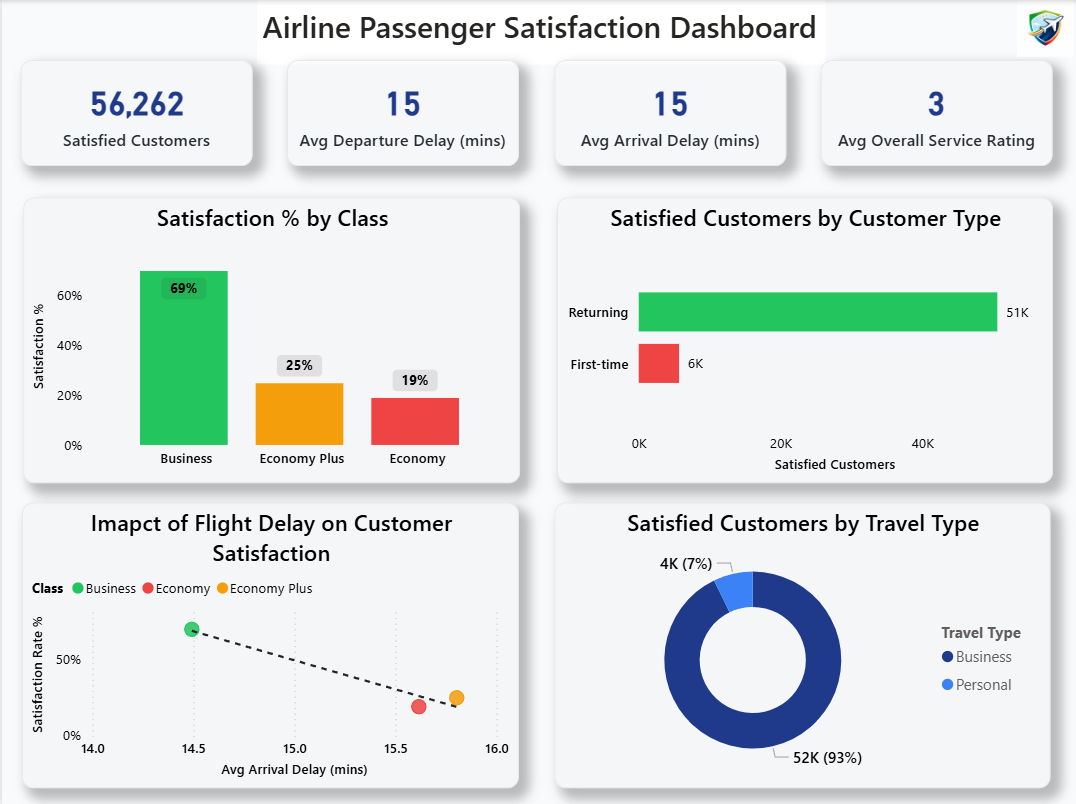

This screenshot's page, from the dashboard's own definition file:
{"tool":"powerbi","page":{"name":"Overview","canvas":[960,720],"ordinal":0},"visuals":[{"type":"textbox","box":[226.7,0,506.7,57.8],"z":0},{"type":"card","fields":{"Values":["airline_passenger_satisfaction.Satisfied Customers"]},"box":[16.7,53.2,206.7,94.2],"z":1000},{"type":"card","fields":{"Values":["airline_passenger_satisfaction.Avg Overall Service Rating"]},"box":[729.6,53.2,206.7,94.2],"z":2000},{"type":"card","fields":{"Values":["airline_passenger_satisfaction.Avg Arrival Delay (mins)"]},"box":[491.9,53.2,206.7,94.2],"z":3000},{"type":"card","fields":{"Values":["airline_passenger_satisfaction.Avg Departure Delay (mins)"]},"box":[254.3,53.2,206.7,94.2],"z":4000},{"type":"clusteredColumnChart","title":"Satisfaction % by Class","fields":{"Category":["airline_passenger_satisfaction.Class"],"Y":["airline_passenger_satisfaction.Overall Satisfaction %"]},"box":[19.3,176.1,442.8,254.6],"z":5000},{"type":"barChart","fields":{"Category":["airline_passenger_satisfaction.Customer Type"],"Y":["airline_passenger_satisfaction.Satisfied Customers"]},"box":[494.6,176.1,441.6,254.6],"z":6000},{"type":"donutChart","fields":{"Y":["airline_passenger_satisfaction.Satisfied Customers"],"Category":["airline_passenger_satisfaction.Type of Travel"]},"box":[492.2,447.6,441.6,254.6],"z":7000},{"type":"scatterChart","title":"Imapct of Flight Delay on Customer Satisfaction","fields":{"X":["airline_passenger_satisfaction.Avg Arrival Delay (mins)"],"Y":["airline_passenger_satisfaction.Overall Satisfaction %"],"Series":["airline_passenger_satisfaction.Class"]},"box":[18.1,447.6,442.8,254.6],"z":8000},{"type":"image","box":[898.8,0,61.5,50.7],"z":9000}]}

Visuals, with their boxes in screenshot pixels (x1, y1, x2, y2), scaled from the page's 960x720 canvas onto the 1076x804 screenshot:
textbox: (left=254, top=0, right=822, bottom=65)
card - airline_passenger_satisfaction.Satisfied Customers: (left=19, top=59, right=250, bottom=165)
card - airline_passenger_satisfaction.Avg Overall Service Rating: (left=818, top=59, right=1049, bottom=165)
card - airline_passenger_satisfaction.Avg Arrival Delay (mins): (left=551, top=59, right=783, bottom=165)
card - airline_passenger_satisfaction.Avg Departure Delay (mins): (left=285, top=59, right=517, bottom=165)
"Satisfaction % by Class" clusteredColumnChart: (left=22, top=197, right=518, bottom=481)
barChart - airline_passenger_satisfaction.Customer Type x airline_passenger_satisfaction.Satisfied Customers: (left=554, top=197, right=1049, bottom=481)
donutChart - airline_passenger_satisfaction.Satisfied Customers x airline_passenger_satisfaction.Type of Travel: (left=552, top=500, right=1047, bottom=784)
"Imapct of Flight Delay on Customer Satisfaction" scatterChart: (left=20, top=500, right=517, bottom=784)
image: (left=1007, top=0, right=1075, bottom=57)
